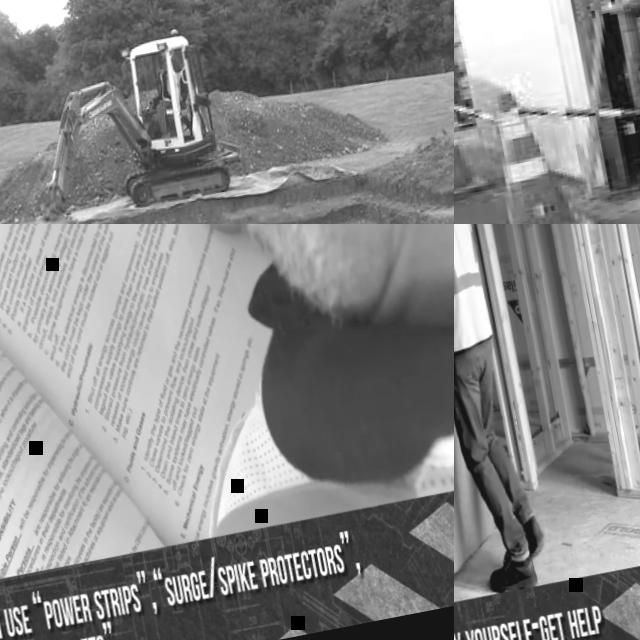Hardhat: (159, 49, 174, 60)
NO-Mask: (152, 224, 409, 340)
Person: (110, 224, 454, 537), (454, 224, 557, 599), (562, 0, 640, 198), (139, 46, 194, 132)
Safety Cone: (463, 81, 594, 224), (454, 80, 505, 203)
Safety Vest: (184, 323, 454, 538), (454, 224, 495, 356), (158, 62, 188, 104)
vehicle: (0, 26, 248, 224)
